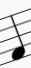note: (8, 14, 27, 61)
